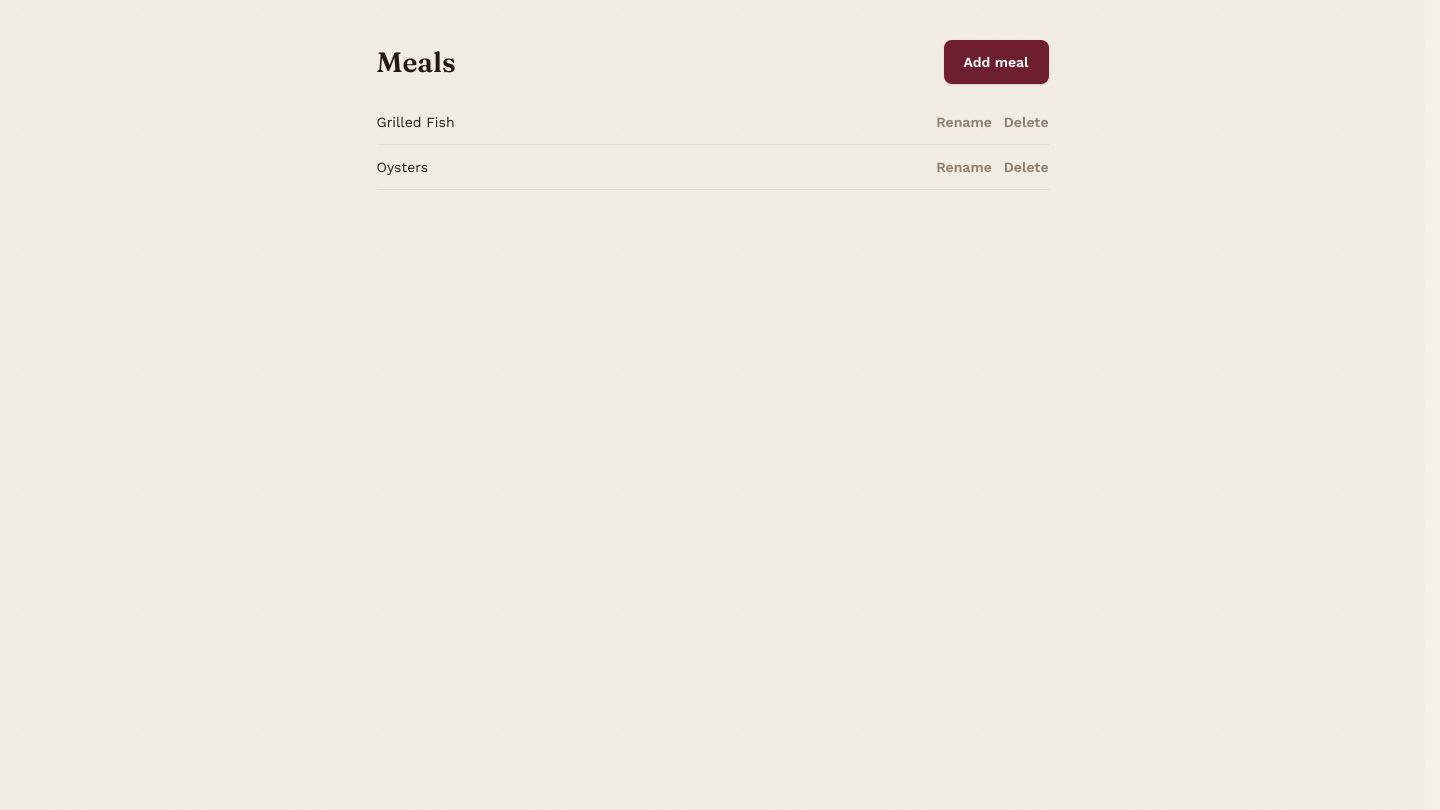
Test case: MealListView › shows a blocked-delete error inline without removing the meal
The width and height of the screenshot is (1440, 810).
Click the button with test id "meal-delete-button".
click(1026, 167)  # box top-left (1004, 157), bottom-right (1049, 177)
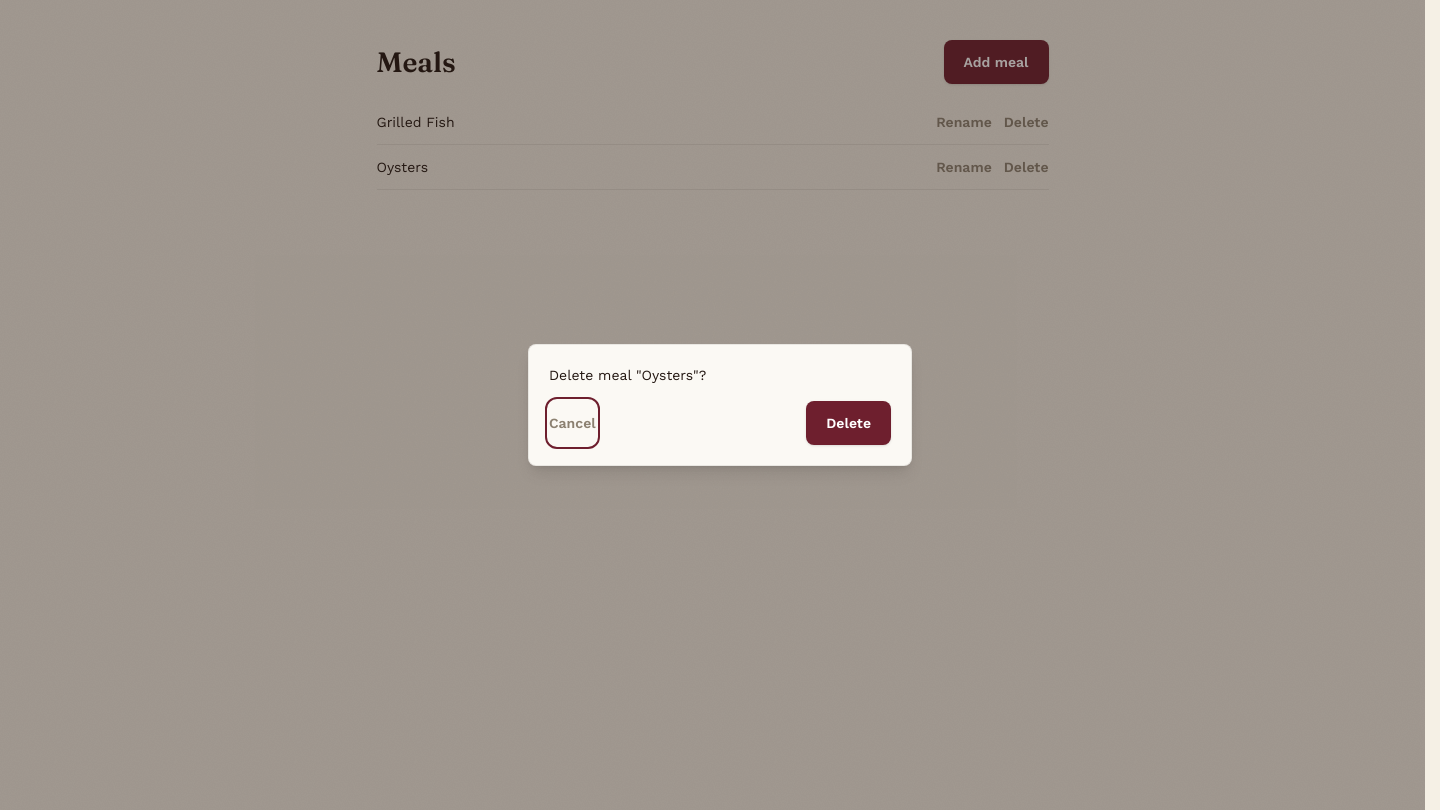
Click the button with test id "confirm-dialog-confirm".
click(849, 423)  # box top-left (806, 401), bottom-right (891, 445)
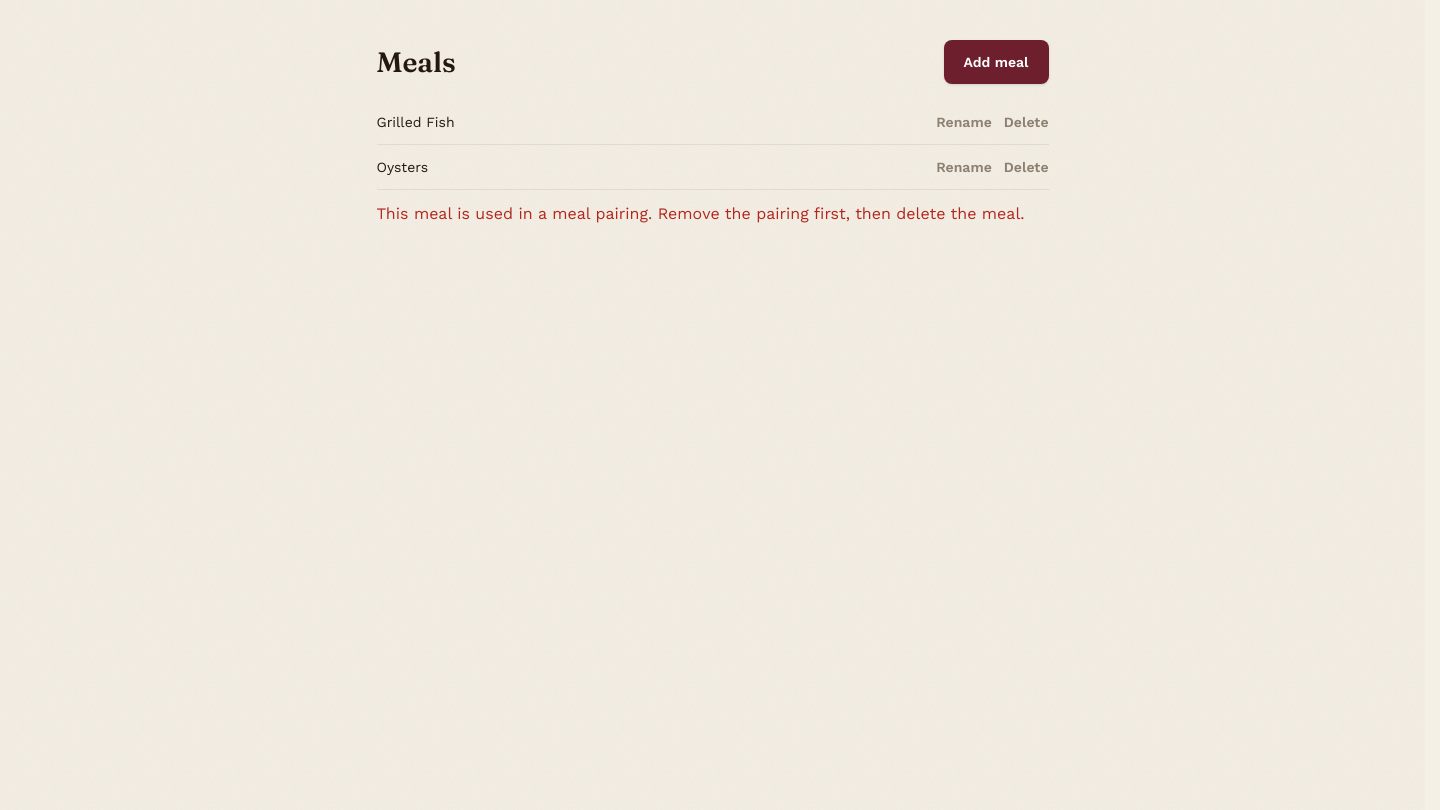
Expected: the number of list items with test id "meal-item" is 2, top-left (376, 100), bottom-right (1048, 145); top-left (376, 145), bottom-right (1048, 190)
Expected: the message shows "meal pairing", top-left (376, 204), bottom-right (1024, 223)
